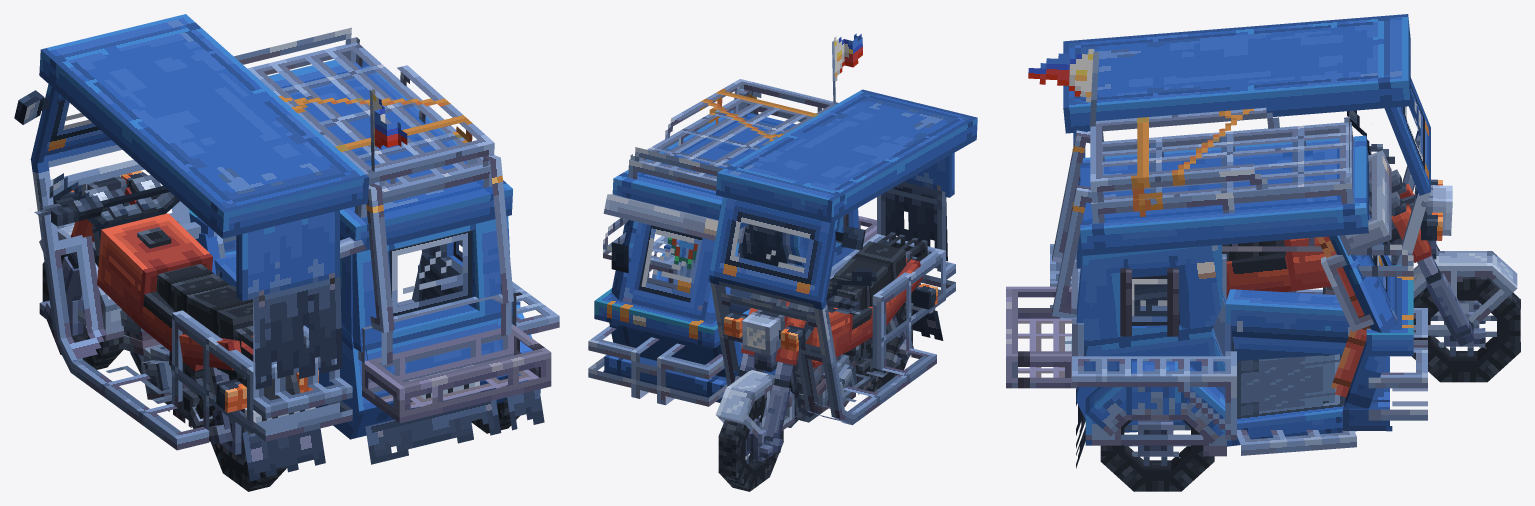
The model's file is philippine_tricycle.glb.
3 renders of one model, left to right at view 1: azimuth 30°, elevation 25°; view 2: azimuth 150°, elevation 25°; view 3: azimuth 270°, elevation 25°, orthographic. The views are drawn at different scales.
Parts seen in each view (by area): view 1: cube_160, cube_190, cube_167, cube_193, cube_223, cube_194, cube_155, cube_41, cube_151, cube_165, cube_174, cube_192 (+27 smaller); view 2: cube_160, cube_154, cube_193, cube_151, cube_167, cube_184, cube_194, cube_165, cube_171, cube_187, cube_155, cube_223 (+37 smaller); view 3: cube_160, cube_167, cube_174, cube_193, cube_173, cube_194, cube_188, cube_218, cube_190, cube_192, cube_184, cube_154 (+42 smaller).
Part boxes in pixels (left/top/right/bottom): cube_160: left=39, top=14, right=369, bottom=238; cube_190: left=362, top=325, right=551, bottom=423; cube_167: left=268, top=60, right=512, bottom=252; cube_193: left=247, top=42, right=492, bottom=217; cube_223: left=253, top=276, right=342, bottom=389; cube_194: left=234, top=27, right=494, bottom=186; cube_155: left=236, top=210, right=339, bottom=372; cube_41: left=97, top=213, right=212, bottom=327; cube_151: left=31, top=140, right=190, bottom=318; cube_165: left=172, top=310, right=339, bottom=434; cube_174: left=305, top=242, right=507, bottom=439; cube_192: left=366, top=154, right=513, bottom=332; cube_160: left=716, top=89, right=977, bottom=223; cube_154: left=709, top=197, right=840, bottom=302; cube_193: left=628, top=98, right=810, bottom=190; cube_151: left=709, top=275, right=842, bottom=402; cube_167: left=612, top=110, right=796, bottom=229; cube_184: left=588, top=325, right=727, bottom=406; cube_194: left=630, top=79, right=838, bottom=176; cube_165: left=830, top=234, right=945, bottom=369; cube_171: left=594, top=288, right=720, bottom=348; cube_187: left=603, top=194, right=745, bottom=243; cube_155: left=877, top=153, right=954, bottom=250; cube_223: left=885, top=185, right=947, bottom=261; cube_160: left=1063, top=14, right=1410, bottom=133; cube_167: left=1080, top=135, right=1368, bottom=255; cube_174: left=1076, top=245, right=1234, bottom=432; cube_193: left=1091, top=122, right=1353, bottom=223; cube_173: left=1227, top=354, right=1356, bottom=446; cube_194: left=1090, top=107, right=1350, bottom=202; cube_188: left=1072, top=351, right=1236, bottom=440; cube_218: left=1225, top=289, right=1350, bottom=342; cube_190: left=1006, top=286, right=1076, bottom=388; cube_192: left=1052, top=130, right=1091, bottom=318; cube_184: left=1368, top=308, right=1427, bottom=431; cube_154: left=1384, top=77, right=1430, bottom=195.
Bounding box in the file's own units: 2.14 × 2.19 × 2.73.
Materials: 6 (6 with a texture image).
